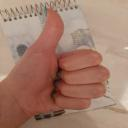ThumbsUp: (15, 6, 112, 117)
